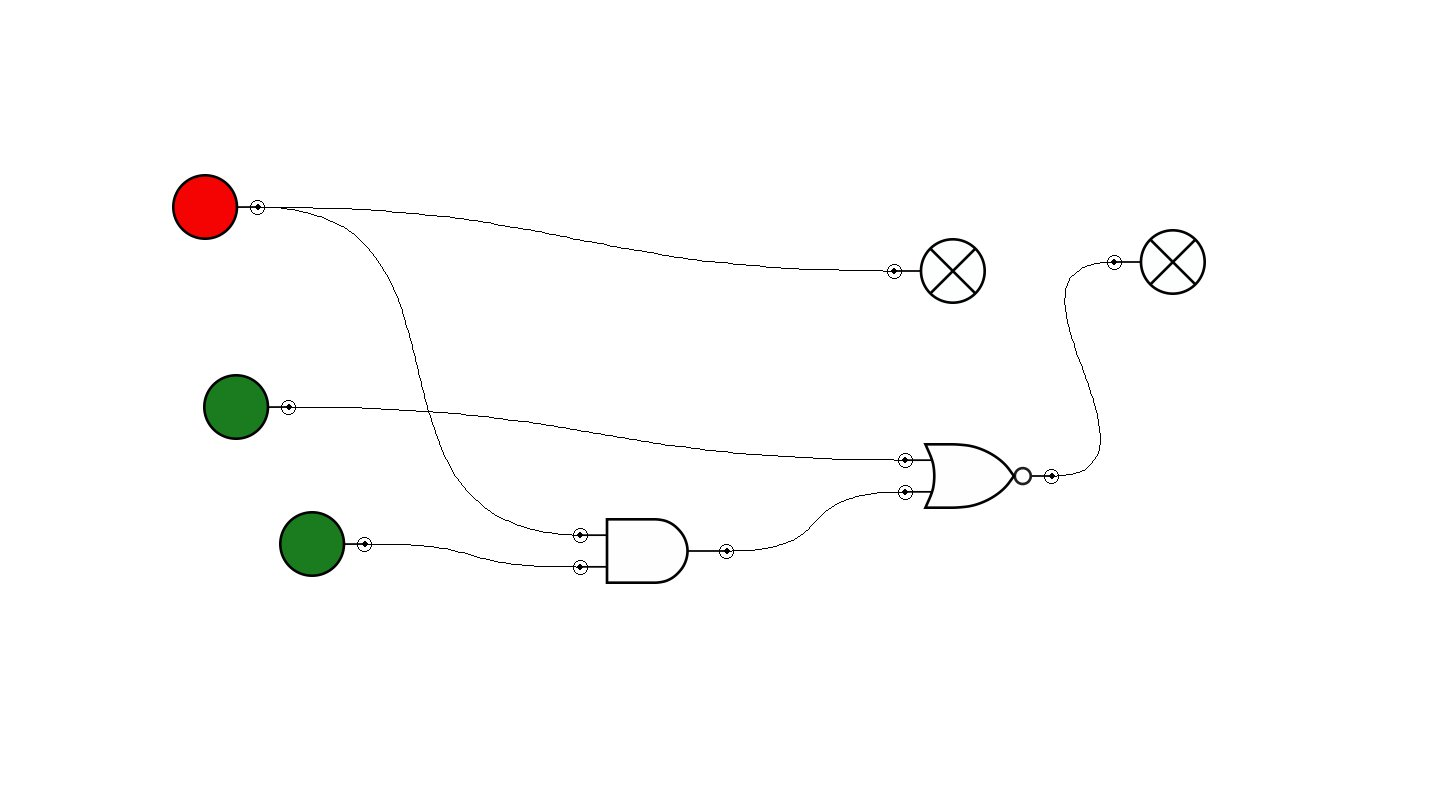and: (573, 518, 734, 584)
bulb: (887, 238, 986, 304), (1107, 229, 1206, 295)
nor: (898, 443, 1059, 509)
switch_False: (172, 174, 265, 240)
switch_True: (203, 374, 296, 440), (279, 511, 372, 577)
